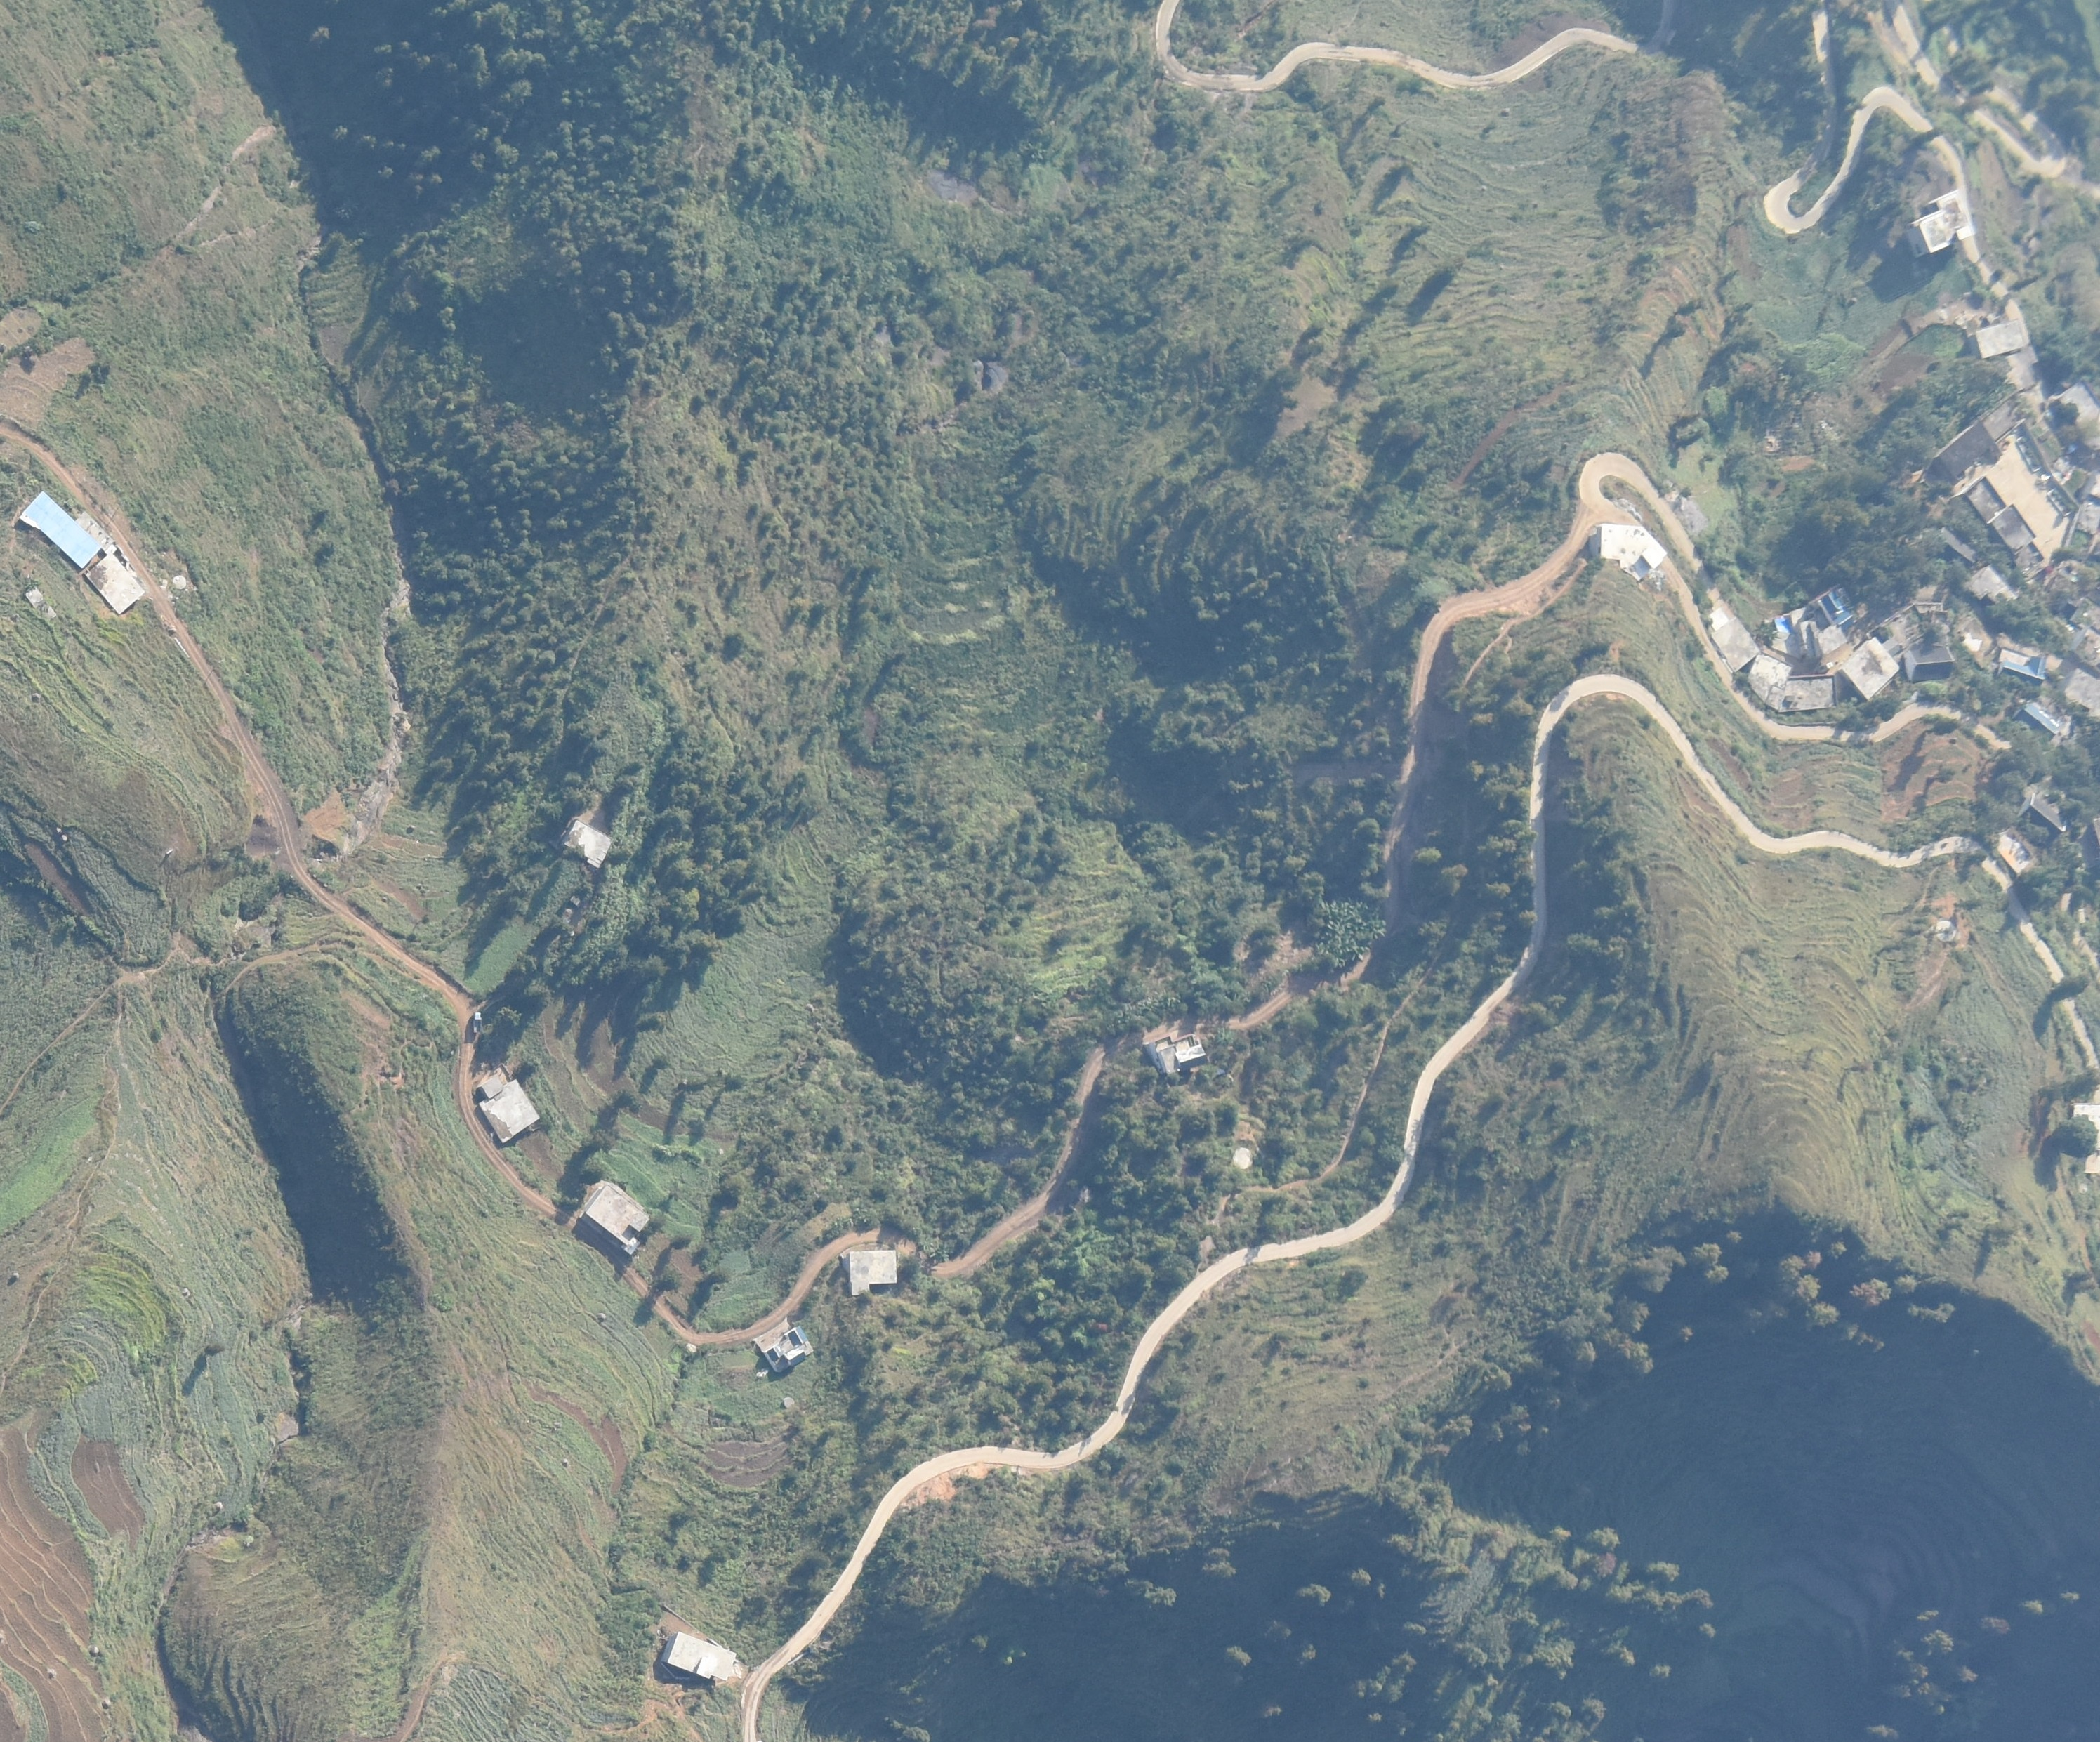building: (1958, 475, 2035, 557), (1775, 588, 1854, 654), (1748, 656, 1840, 713), (577, 1181, 650, 1248), (475, 1074, 541, 1146), (1908, 189, 1974, 257), (661, 1628, 739, 1684), (1588, 526, 1666, 581), (1930, 421, 2000, 481), (86, 555, 143, 612), (1708, 609, 1759, 673), (1843, 638, 1898, 695), (756, 1324, 814, 1373), (2049, 383, 2099, 435), (1968, 565, 2018, 615), (2009, 698, 2059, 748), (844, 1248, 898, 1295), (1932, 520, 1978, 573), (1144, 1036, 1207, 1074), (1994, 643, 2051, 685), (564, 821, 612, 869), (1972, 317, 2026, 357), (1906, 645, 1955, 682), (2025, 795, 2066, 832), (25, 587, 56, 623)
prefabricated-house: (22, 492, 99, 565)
vehicle: (471, 1010, 484, 1036)
well: (1934, 919, 1960, 944), (1233, 1147, 1255, 1170), (171, 574, 187, 590), (782, 1397, 797, 1410)
